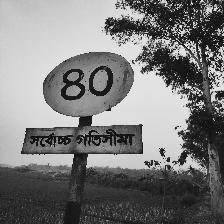Speed-limit: (25, 50, 141, 156)
